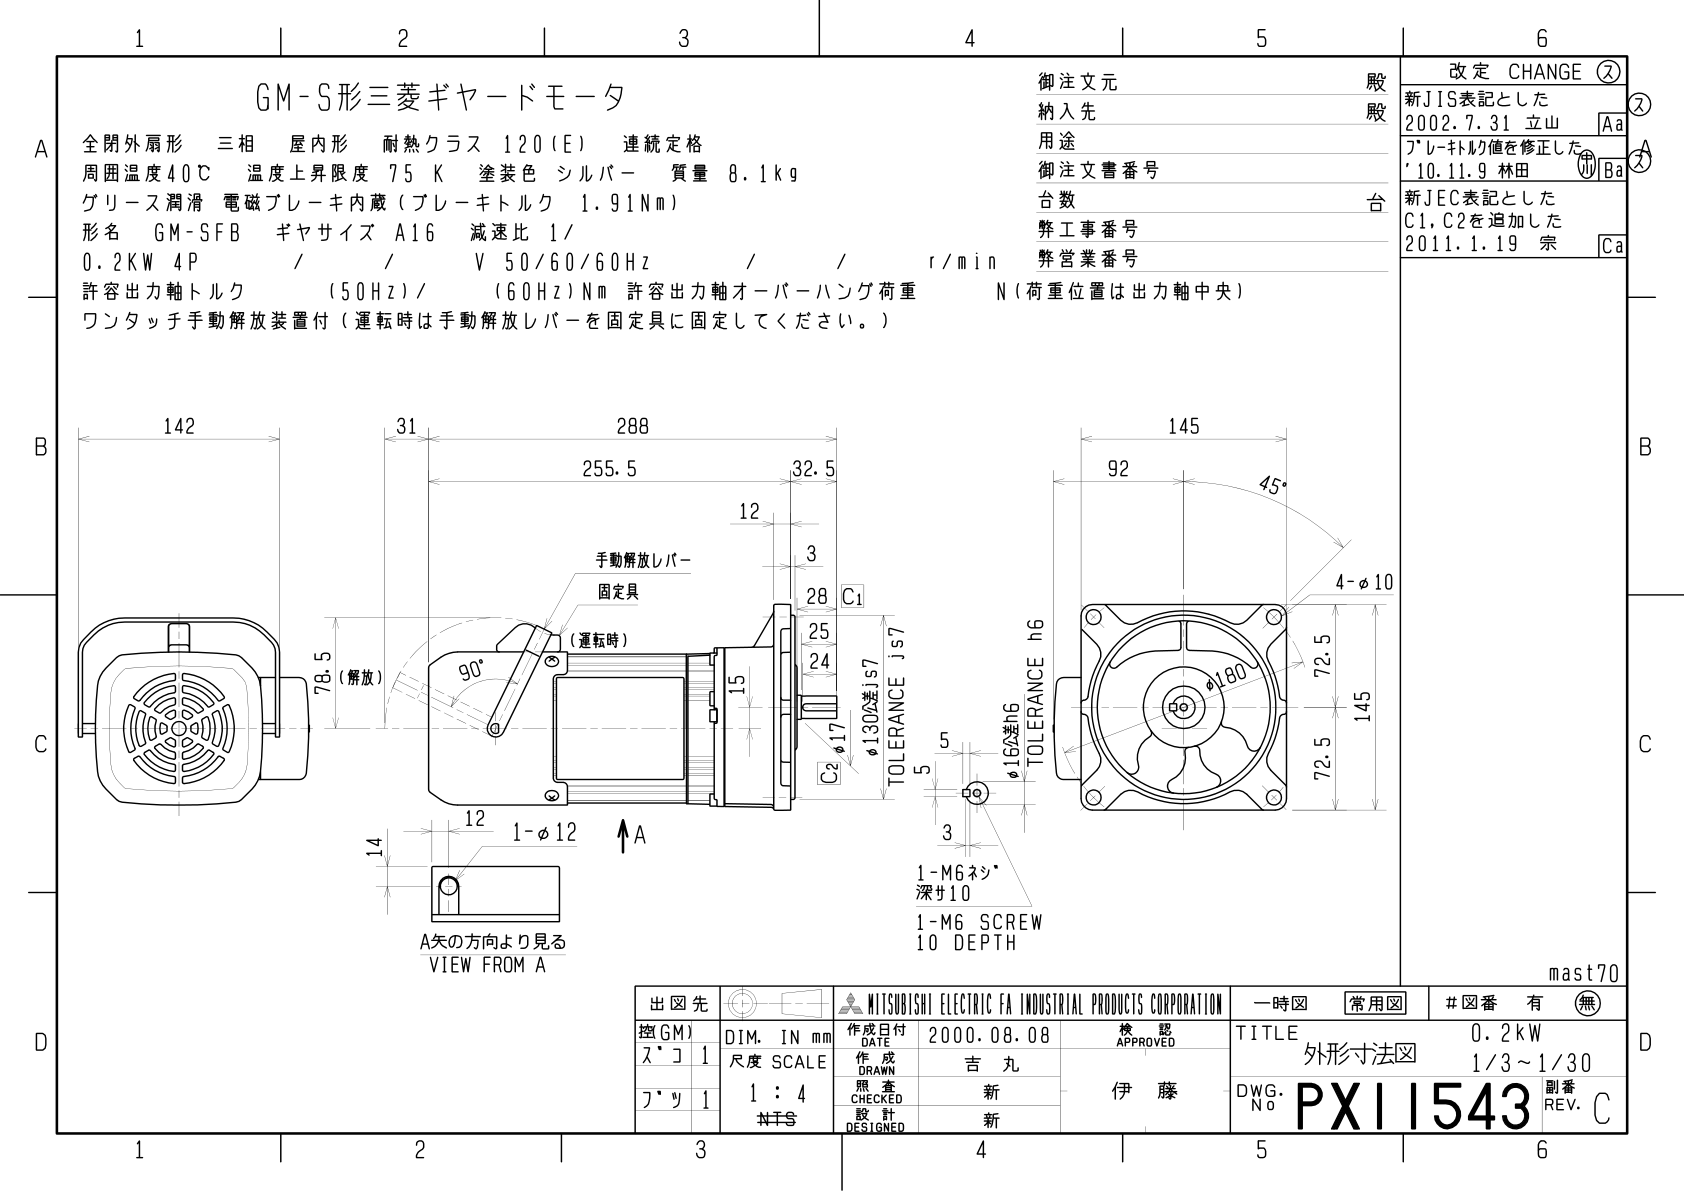GM_S_手動ブレーキ＿三相_フランジ: (64, 394, 1399, 978)
